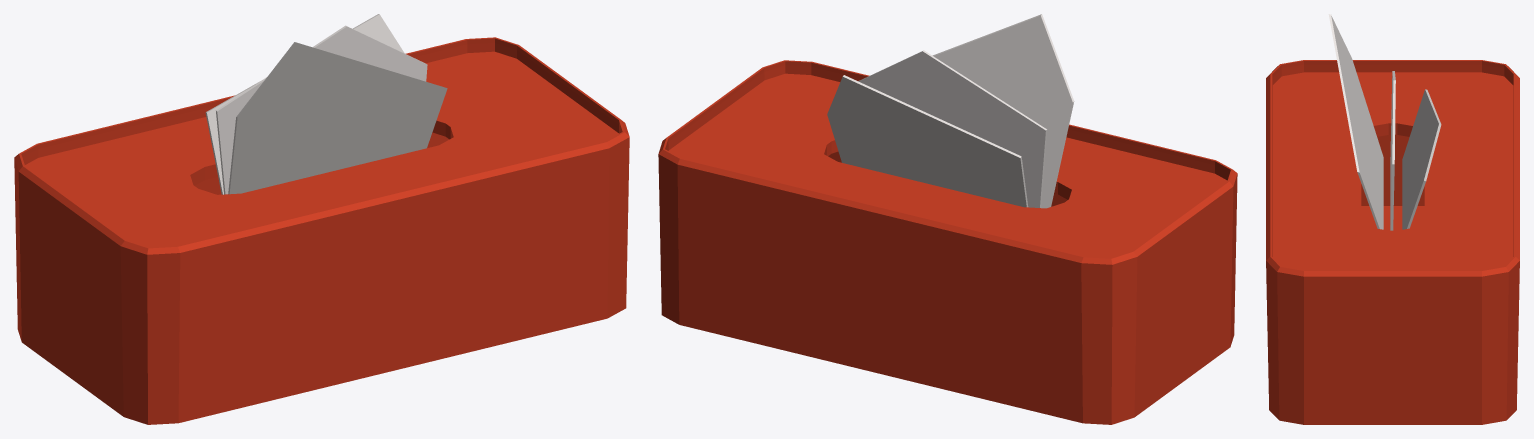
File: SM_Cook_NapkinBox_01.glb
The picture shows the model from 3 angles, left to right: view 1: azimuth 30°, elevation 25°; view 2: azimuth 150°, elevation 25°; view 3: azimuth 270°, elevation 25°; orthographic projection. The views are drawn at different scales.
Parts seen in each view (by area): view 1: SM_Cook_NapkinBox_01; view 2: SM_Cook_NapkinBox_01; view 3: SM_Cook_NapkinBox_01.
Boxes of the visible parts, bbox=[...] form: SM_Cook_NapkinBox_01: bbox=[14, 14, 629, 424]; SM_Cook_NapkinBox_01: bbox=[658, 14, 1237, 424]; SM_Cook_NapkinBox_01: bbox=[1266, 14, 1519, 424].
Bounding box in the file's own units: 0.24 × 0.145 × 0.12.
1 material, 1 textured.
